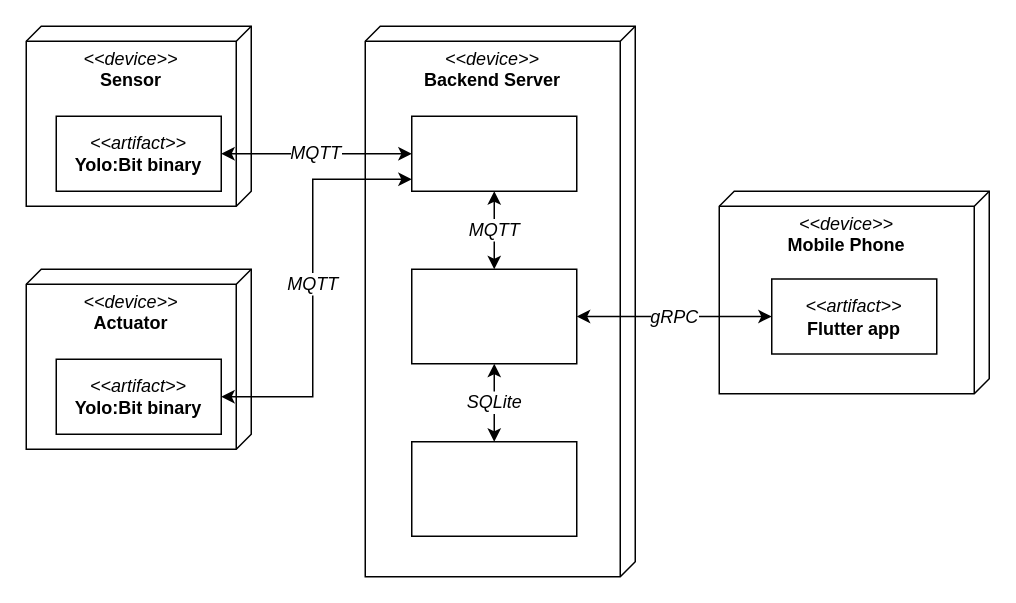
The diagram is 1016 pixels wide and 603 high, and some of its shapes have lost their labels. The shapes that lost their labels are listed below. From the top down, each one's centre as x and y in pixels, then its label:
point (493, 153): <<artifact>> mosquitto binary
point (493, 316): <<artifact>> Go binary
point (493, 488): <<artifact>> SQLite file
